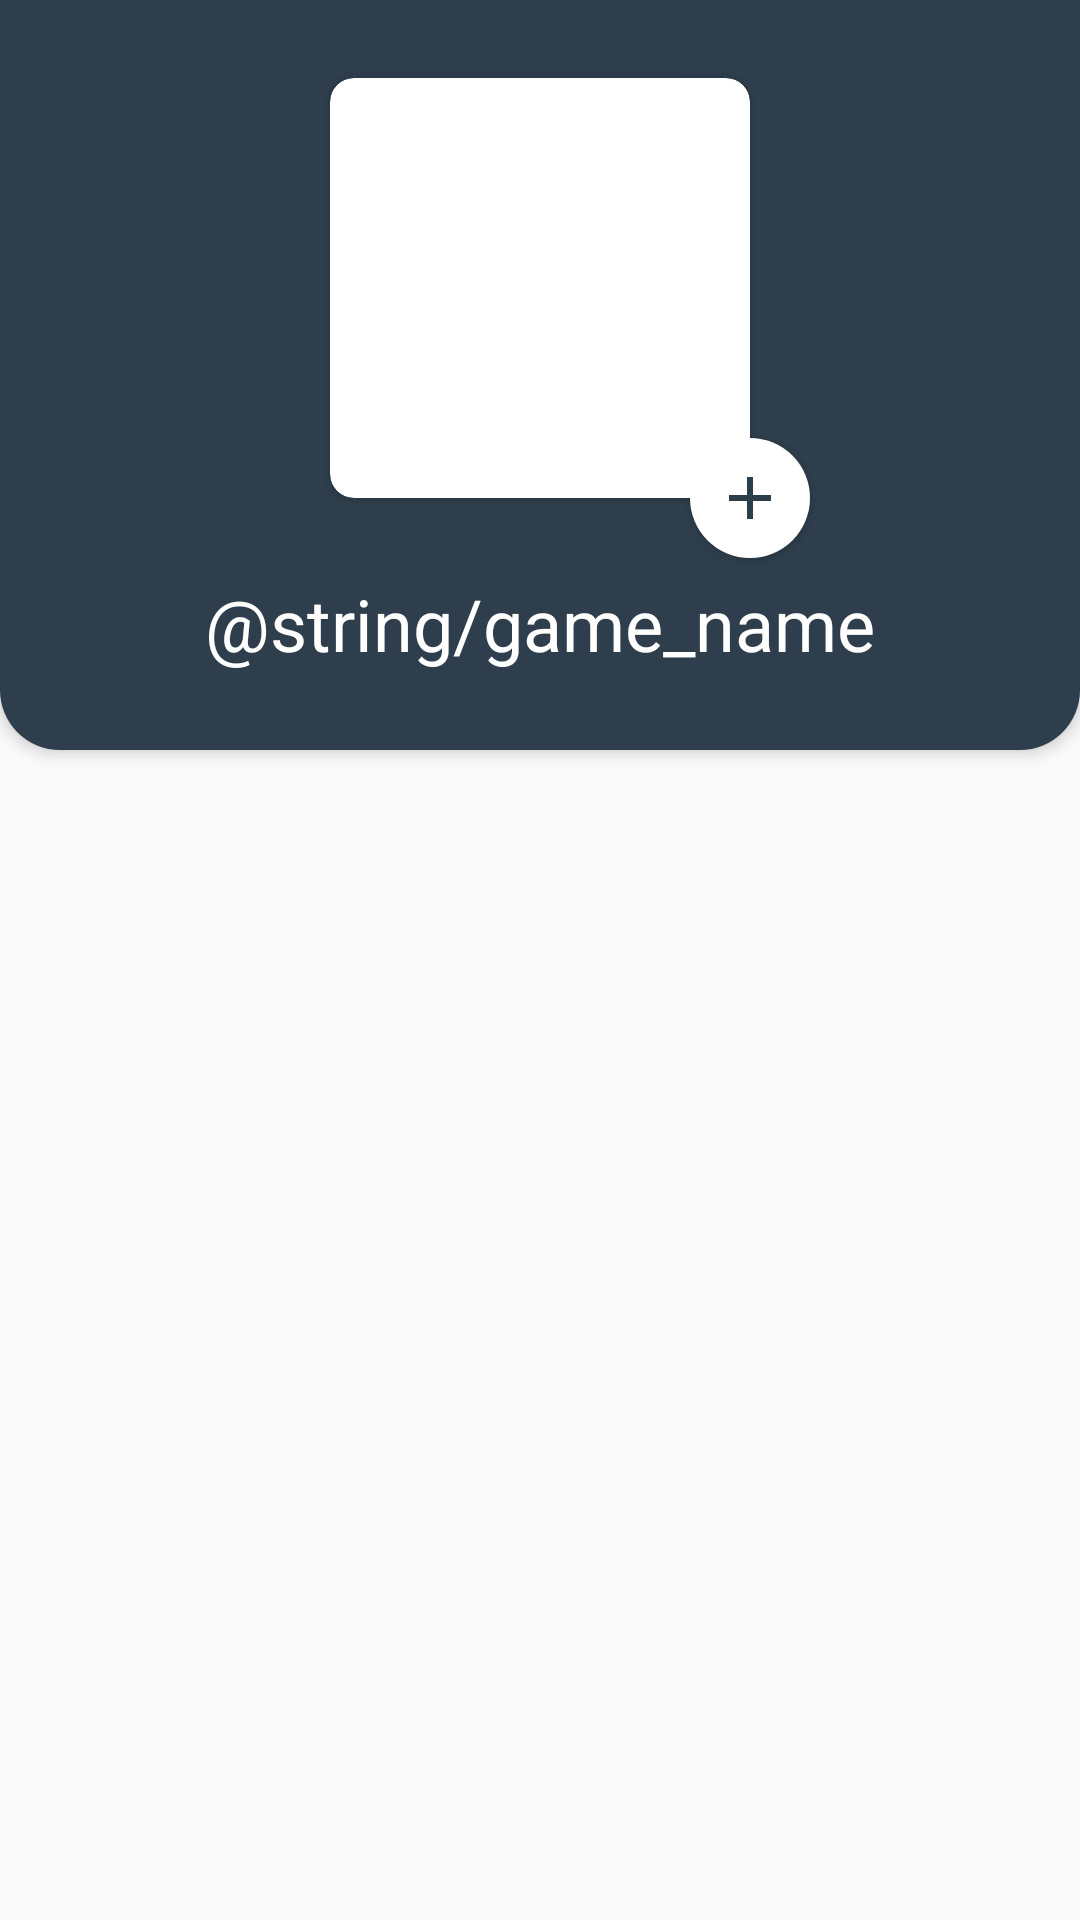

Icon click points for this 1080px×1920px phone screenshot, format (x,y):
add: (750,498)
